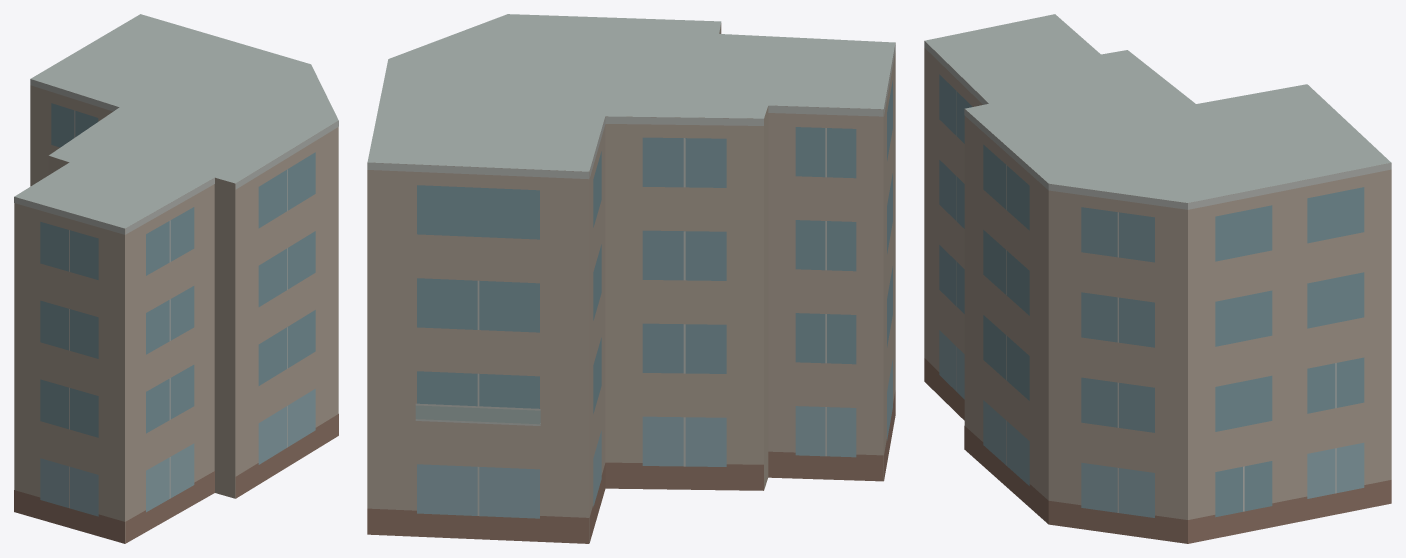
The model's file is survey-upis-32758080.glb.
3 renders of one model, left to right at view 1: azimuth 30°, elevation 25°; view 2: azimuth 150°, elevation 25°; view 3: azimuth 270°, elevation 25°, orthographic. The views are drawn at different scales.
Visible parts, largest first — view 1: survey-upis-32758080.tmp; view 2: survey-upis-32758080.tmp; view 3: survey-upis-32758080.tmp.
Part boxes in pixels (x1,y1,x2,y2): survey-upis-32758080.tmp: (14,14,338,543); survey-upis-32758080.tmp: (367,14,895,543); survey-upis-32758080.tmp: (924,14,1391,543).
Bounding box in the file's own units: 14.53 × 12.2 × 15.16.
